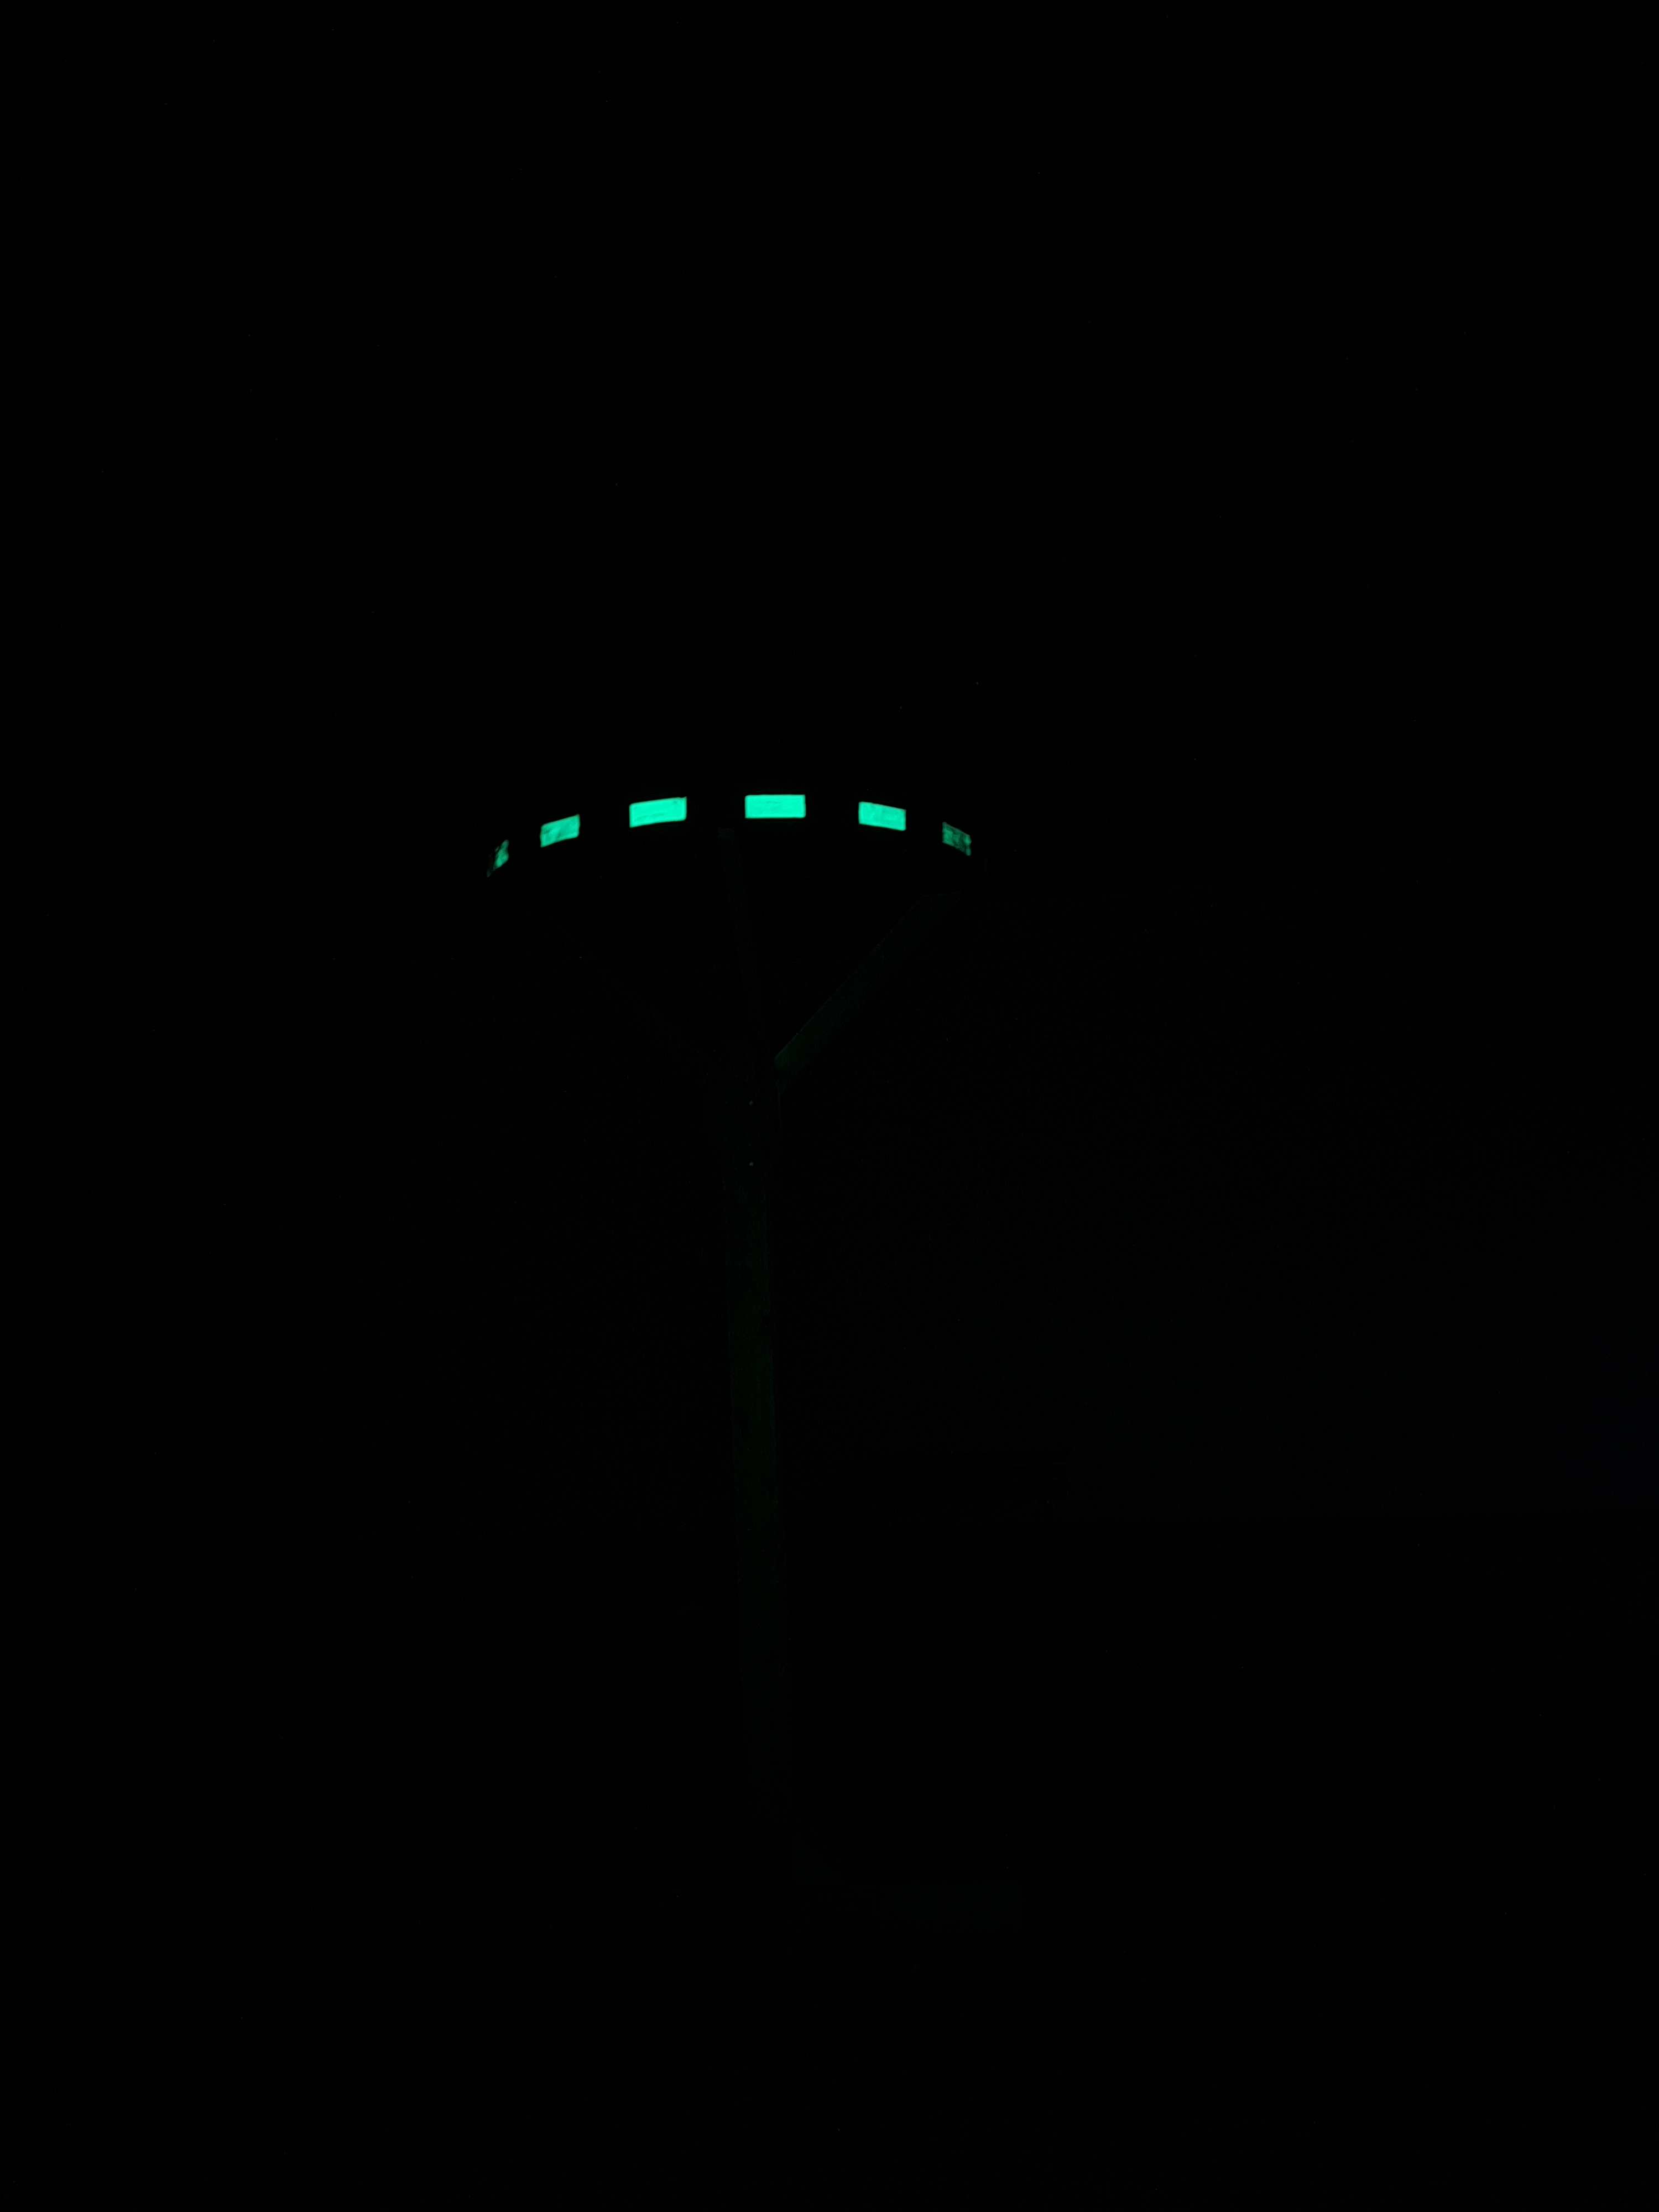hoop: (477, 789, 1002, 892)
